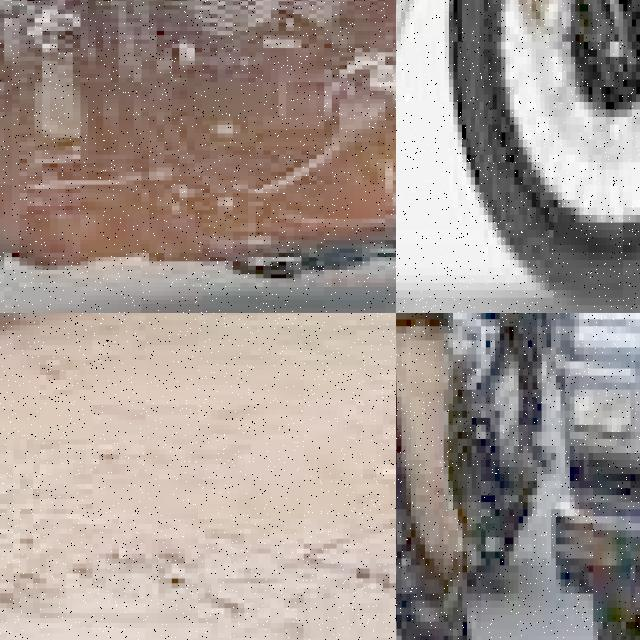bike: (0, 0, 396, 313), (396, 0, 640, 313), (396, 313, 523, 640)
car: (0, 313, 396, 370)
